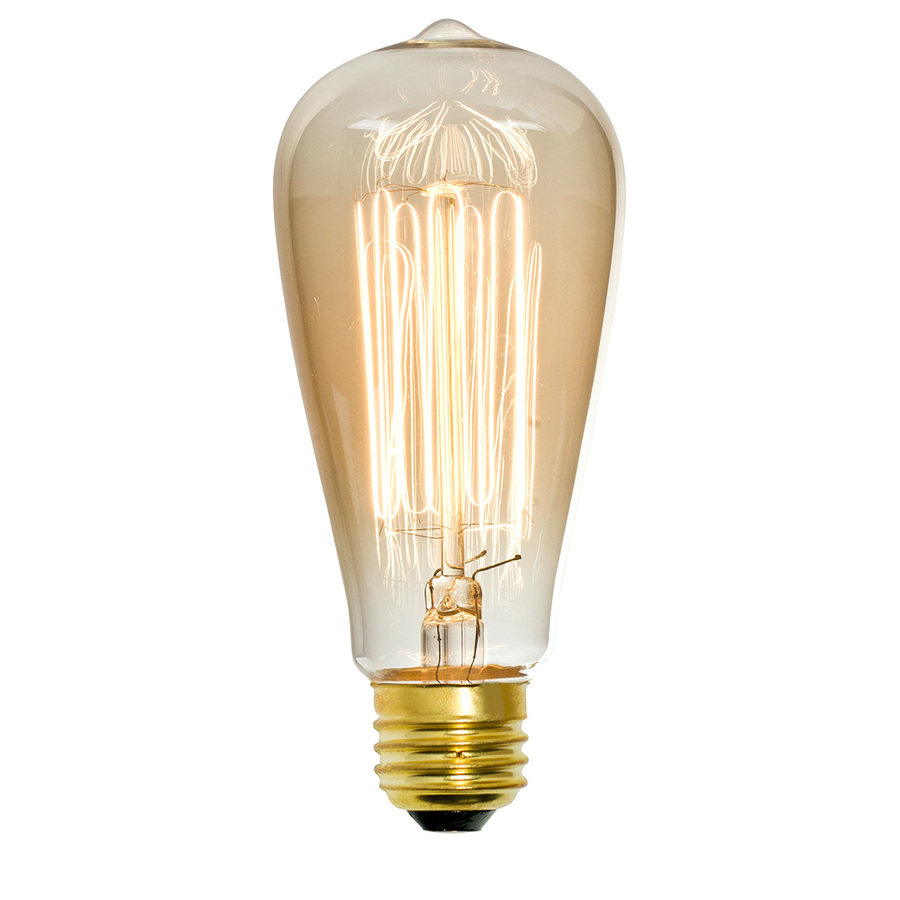Nonrec_Glass: (230, 21, 677, 850)
